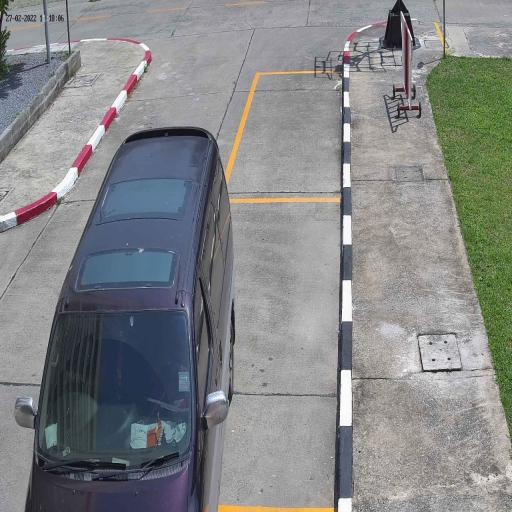car: (24, 125, 236, 512)
